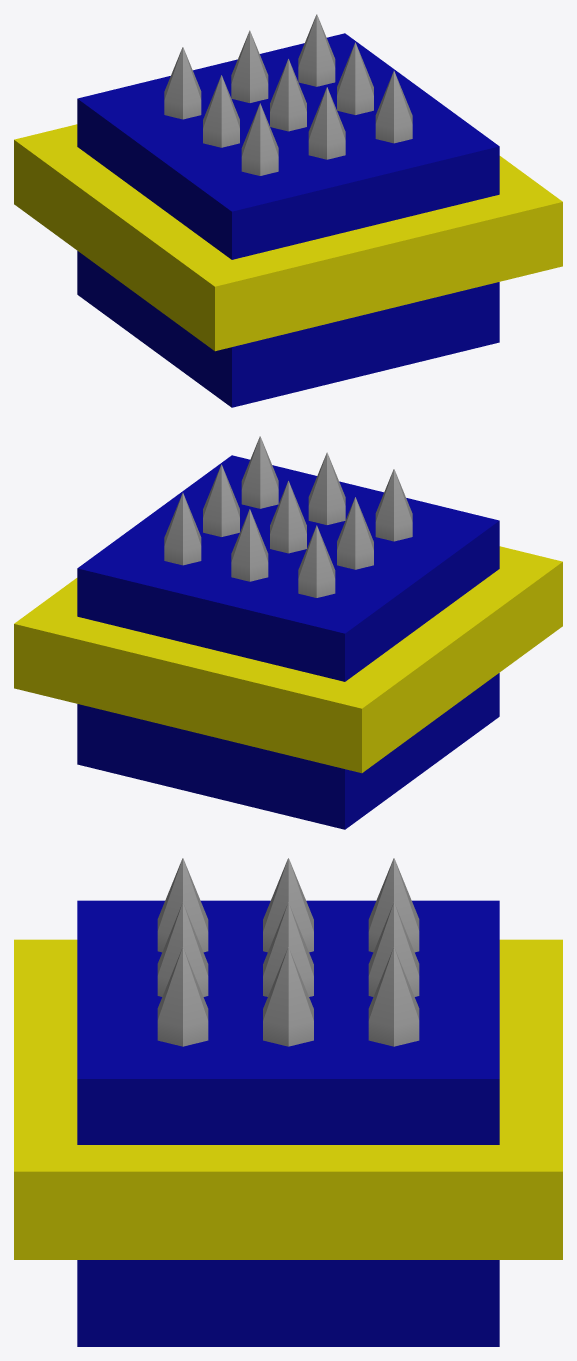
The model's file is BM_Platform_Obstacle01_001.fbx.
3 renders of one model, top to bottom at view 1: azimuth 30°, elevation 25°; view 2: azimuth 150°, elevation 25°; view 3: azimuth 270°, elevation 25°, orthographic. The views are drawn at different scales.
Visible parts, largest first — view 1: BM_Platform_Obstacle01_001, BM_Platform_Obstacle01_Emissive_001, BM_Platform_Pic02, BM_Platform_Pic07, BM_Platform_Pic08, BM_Platform_Pic09, BM_Platform_Pic03, BM_Platform_Pic01, BM_Platform_Pic04, BM_Platform_Pic06, BM_Platform_Pic05; view 2: BM_Platform_Obstacle01_001, BM_Platform_Obstacle01_Emissive_001, BM_Platform_Pic08, BM_Platform_Pic01, BM_Platform_Pic02, BM_Platform_Pic09, BM_Platform_Pic07, BM_Platform_Pic03, BM_Platform_Pic04, BM_Platform_Pic06, BM_Platform_Pic05; view 3: BM_Platform_Obstacle01_001, BM_Platform_Obstacle01_Emissive_001, BM_Platform_Pic09, BM_Platform_Pic03, BM_Platform_Pic06, BM_Platform_Pic07, BM_Platform_Pic01, BM_Platform_Pic08, BM_Platform_Pic02, BM_Platform_Pic05, BM_Platform_Pic04.
Boxes of the visible parts, x1,y1,x2,y2 form: BM_Platform_Obstacle01_001: (77, 33, 499, 407); BM_Platform_Obstacle01_Emissive_001: (14, 124, 562, 351); BM_Platform_Pic02: (308, 87, 345, 159); BM_Platform_Pic07: (164, 47, 201, 119); BM_Platform_Pic08: (231, 30, 268, 102); BM_Platform_Pic09: (298, 14, 335, 86); BM_Platform_Pic03: (375, 71, 412, 143); BM_Platform_Pic01: (241, 103, 278, 175); BM_Platform_Pic04: (203, 75, 239, 147); BM_Platform_Pic06: (337, 42, 373, 114); BM_Platform_Pic05: (270, 59, 306, 131); BM_Platform_Obstacle01_001: (77, 455, 499, 829); BM_Platform_Obstacle01_Emissive_001: (14, 546, 562, 773); BM_Platform_Pic08: (231, 509, 268, 581); BM_Platform_Pic01: (375, 469, 412, 541); BM_Platform_Pic02: (308, 452, 345, 524); BM_Platform_Pic09: (164, 493, 201, 565); BM_Platform_Pic07: (298, 525, 335, 597); BM_Platform_Pic03: (241, 436, 278, 508); BM_Platform_Pic04: (337, 497, 373, 569); BM_Platform_Pic06: (203, 464, 239, 536); BM_Platform_Pic05: (270, 481, 306, 553); BM_Platform_Obstacle01_001: (77, 900, 499, 1346); BM_Platform_Obstacle01_Emissive_001: (14, 939, 562, 1259); BM_Platform_Pic09: (368, 947, 419, 1046); BM_Platform_Pic03: (157, 947, 208, 1046); BM_Platform_Pic06: (263, 947, 313, 1046); BM_Platform_Pic07: (368, 858, 419, 952); BM_Platform_Pic01: (157, 858, 208, 952); BM_Platform_Pic08: (368, 903, 419, 996); BM_Platform_Pic02: (157, 903, 208, 996); BM_Platform_Pic05: (263, 902, 313, 996); BM_Platform_Pic04: (263, 858, 313, 952).
Bounding box in the file's own units: 260 × 185 × 260.
